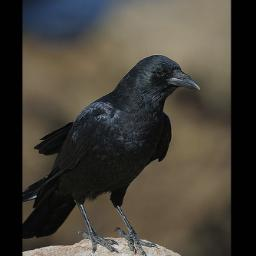Crow: (23, 53, 204, 256)
